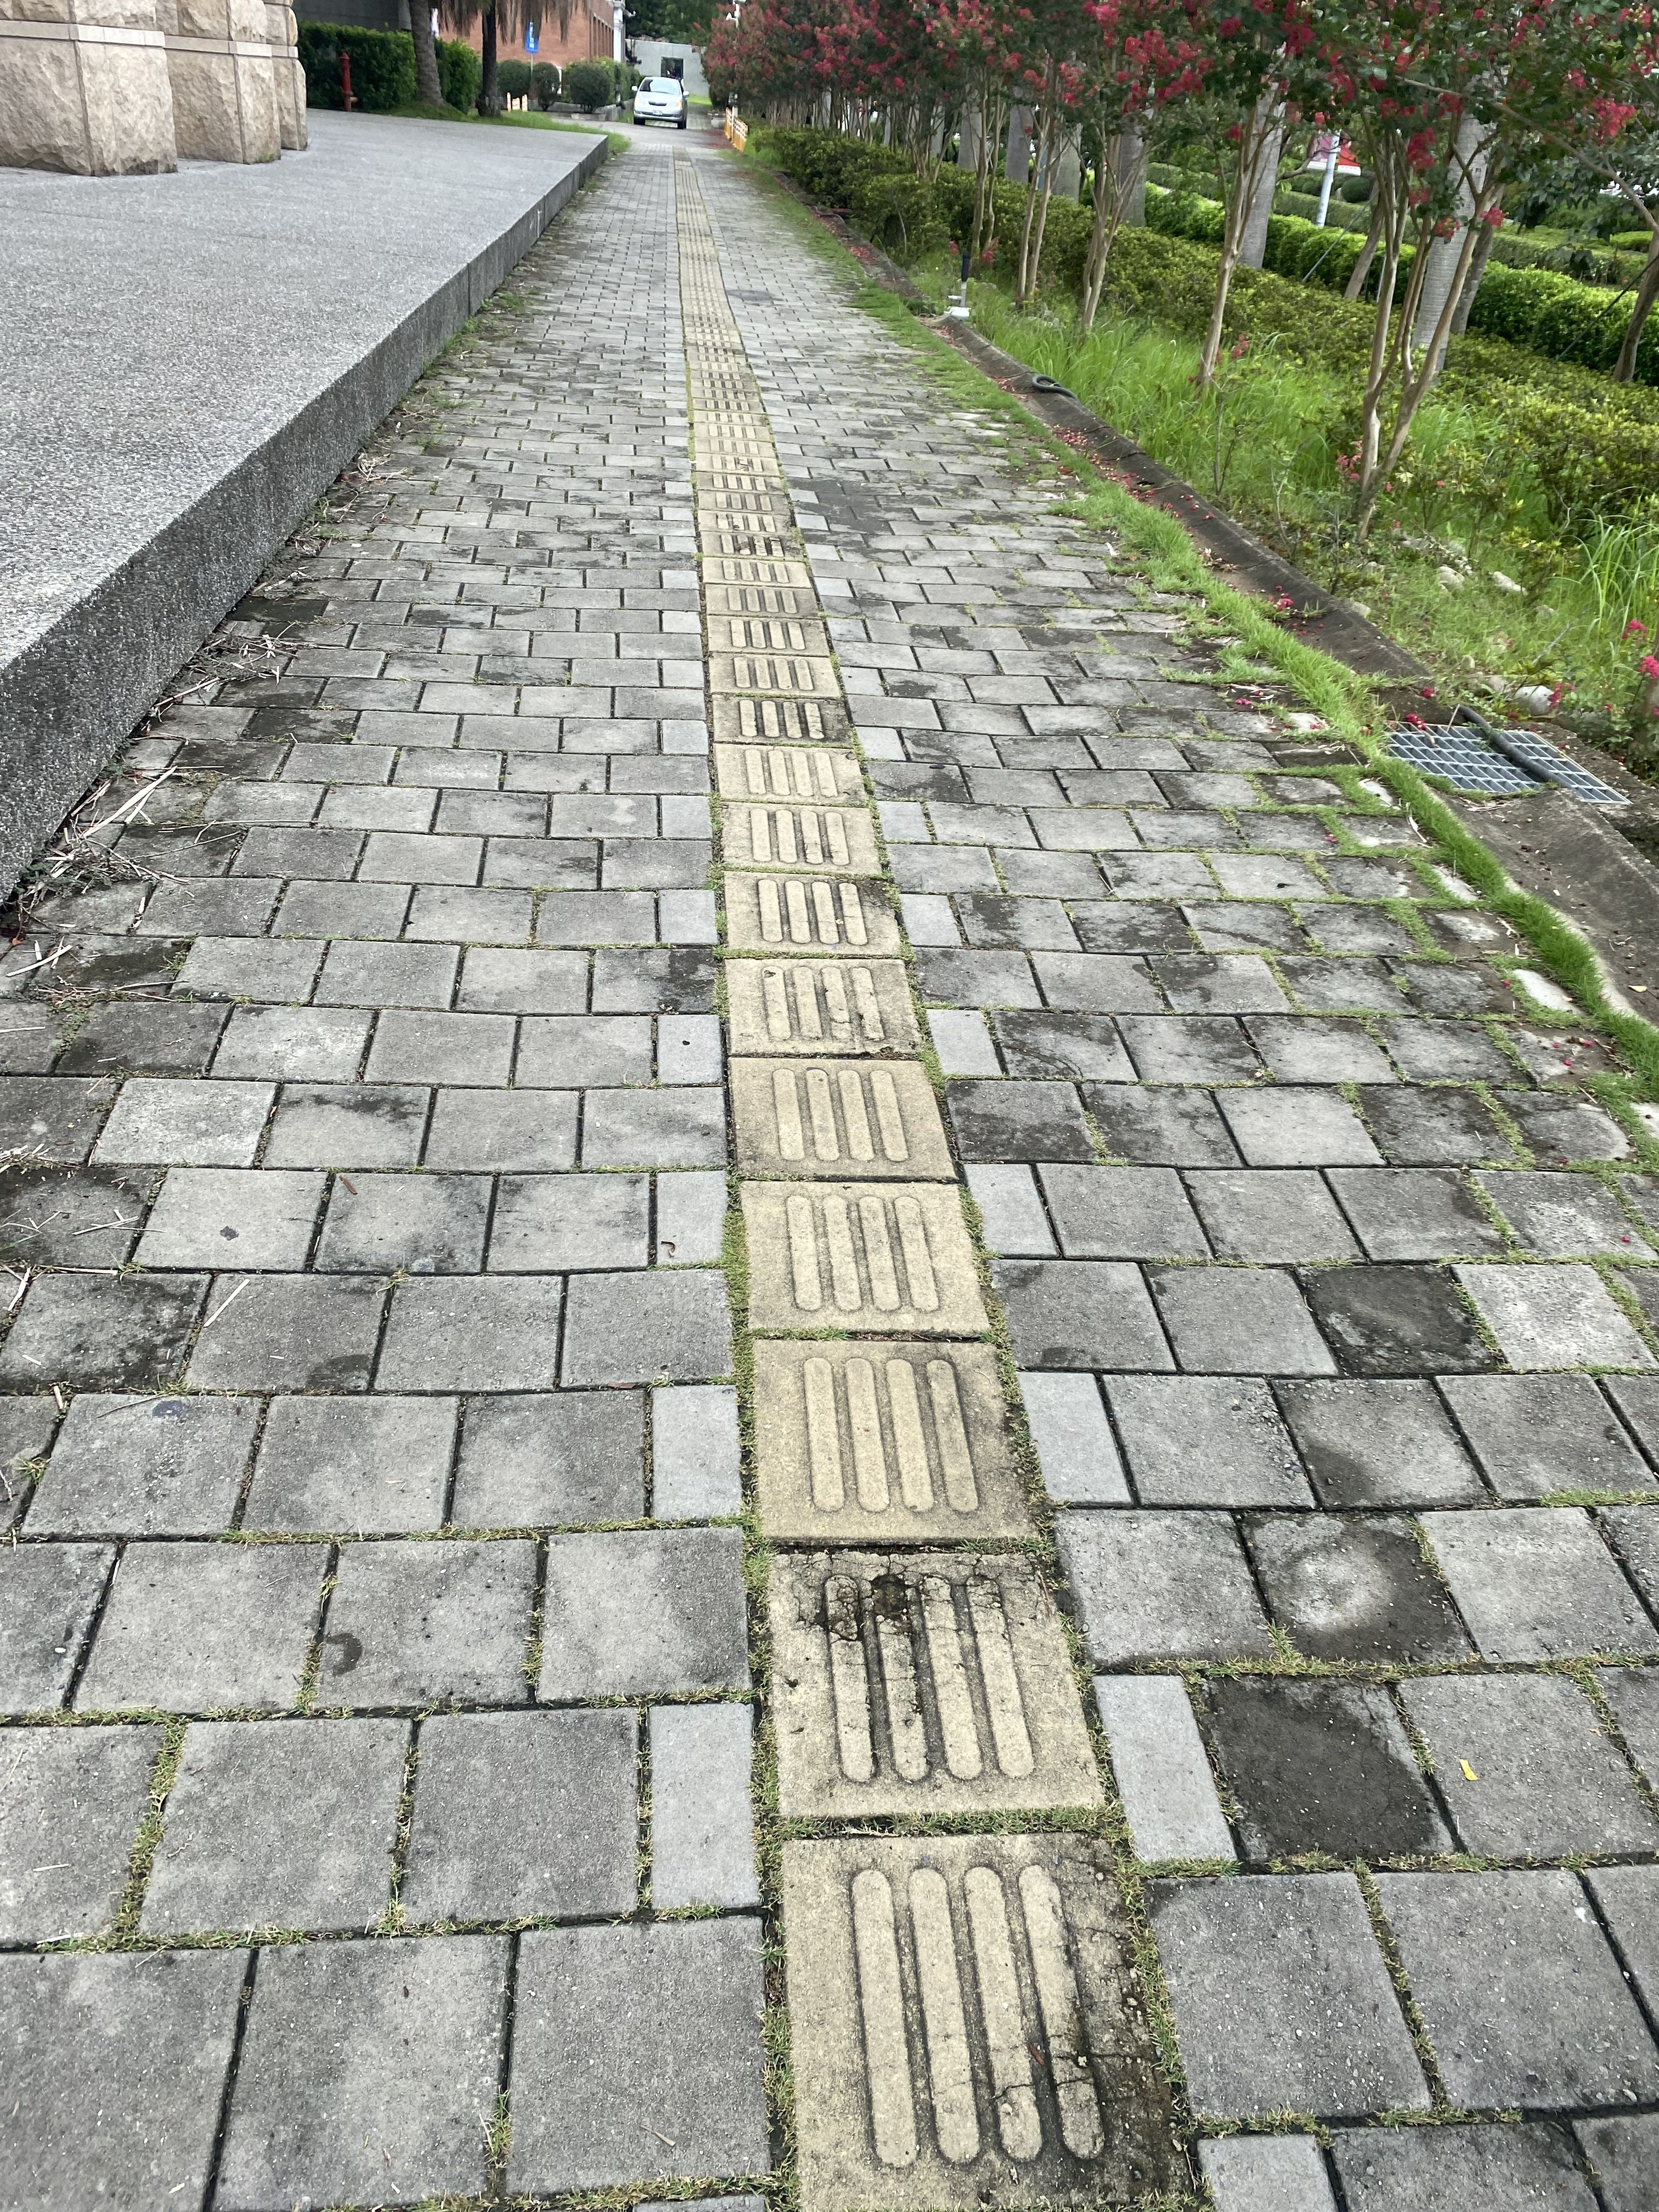sidewalk: (10, 124, 1659, 2207)
